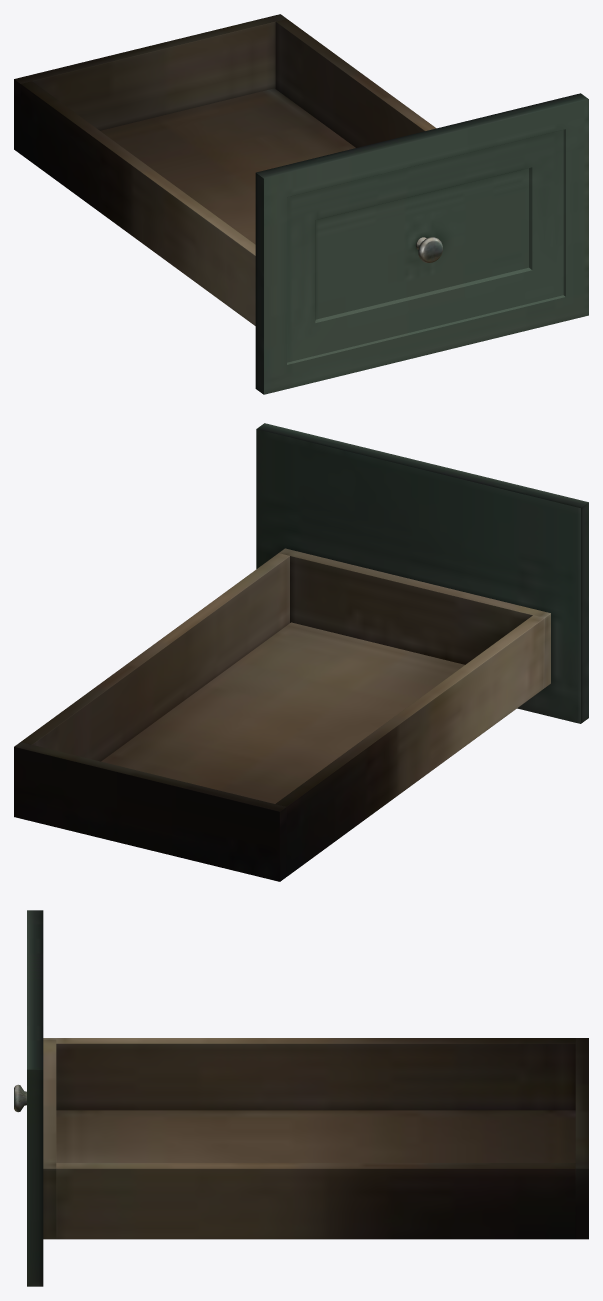
The model's file is Drawer_Bottom_Left.gltf.
3 renders of one model, top to bottom at view 1: azimuth 30°, elevation 25°; view 2: azimuth 150°, elevation 25°; view 3: azimuth 270°, elevation 25°, orthographic.
Visible parts, largest first — view 1: Drawer_Bottom_Left; view 2: Drawer_Bottom_Left; view 3: Drawer_Bottom_Left.
Boxes of the visible parts, x1,y1,x2,y2 form: Drawer_Bottom_Left: [14, 14, 588, 394]; Drawer_Bottom_Left: [14, 423, 588, 881]; Drawer_Bottom_Left: [14, 910, 588, 1286].
Size of the model in its own units: 443 by 282 by 675.
Materials: 3 (3 with a texture image).
